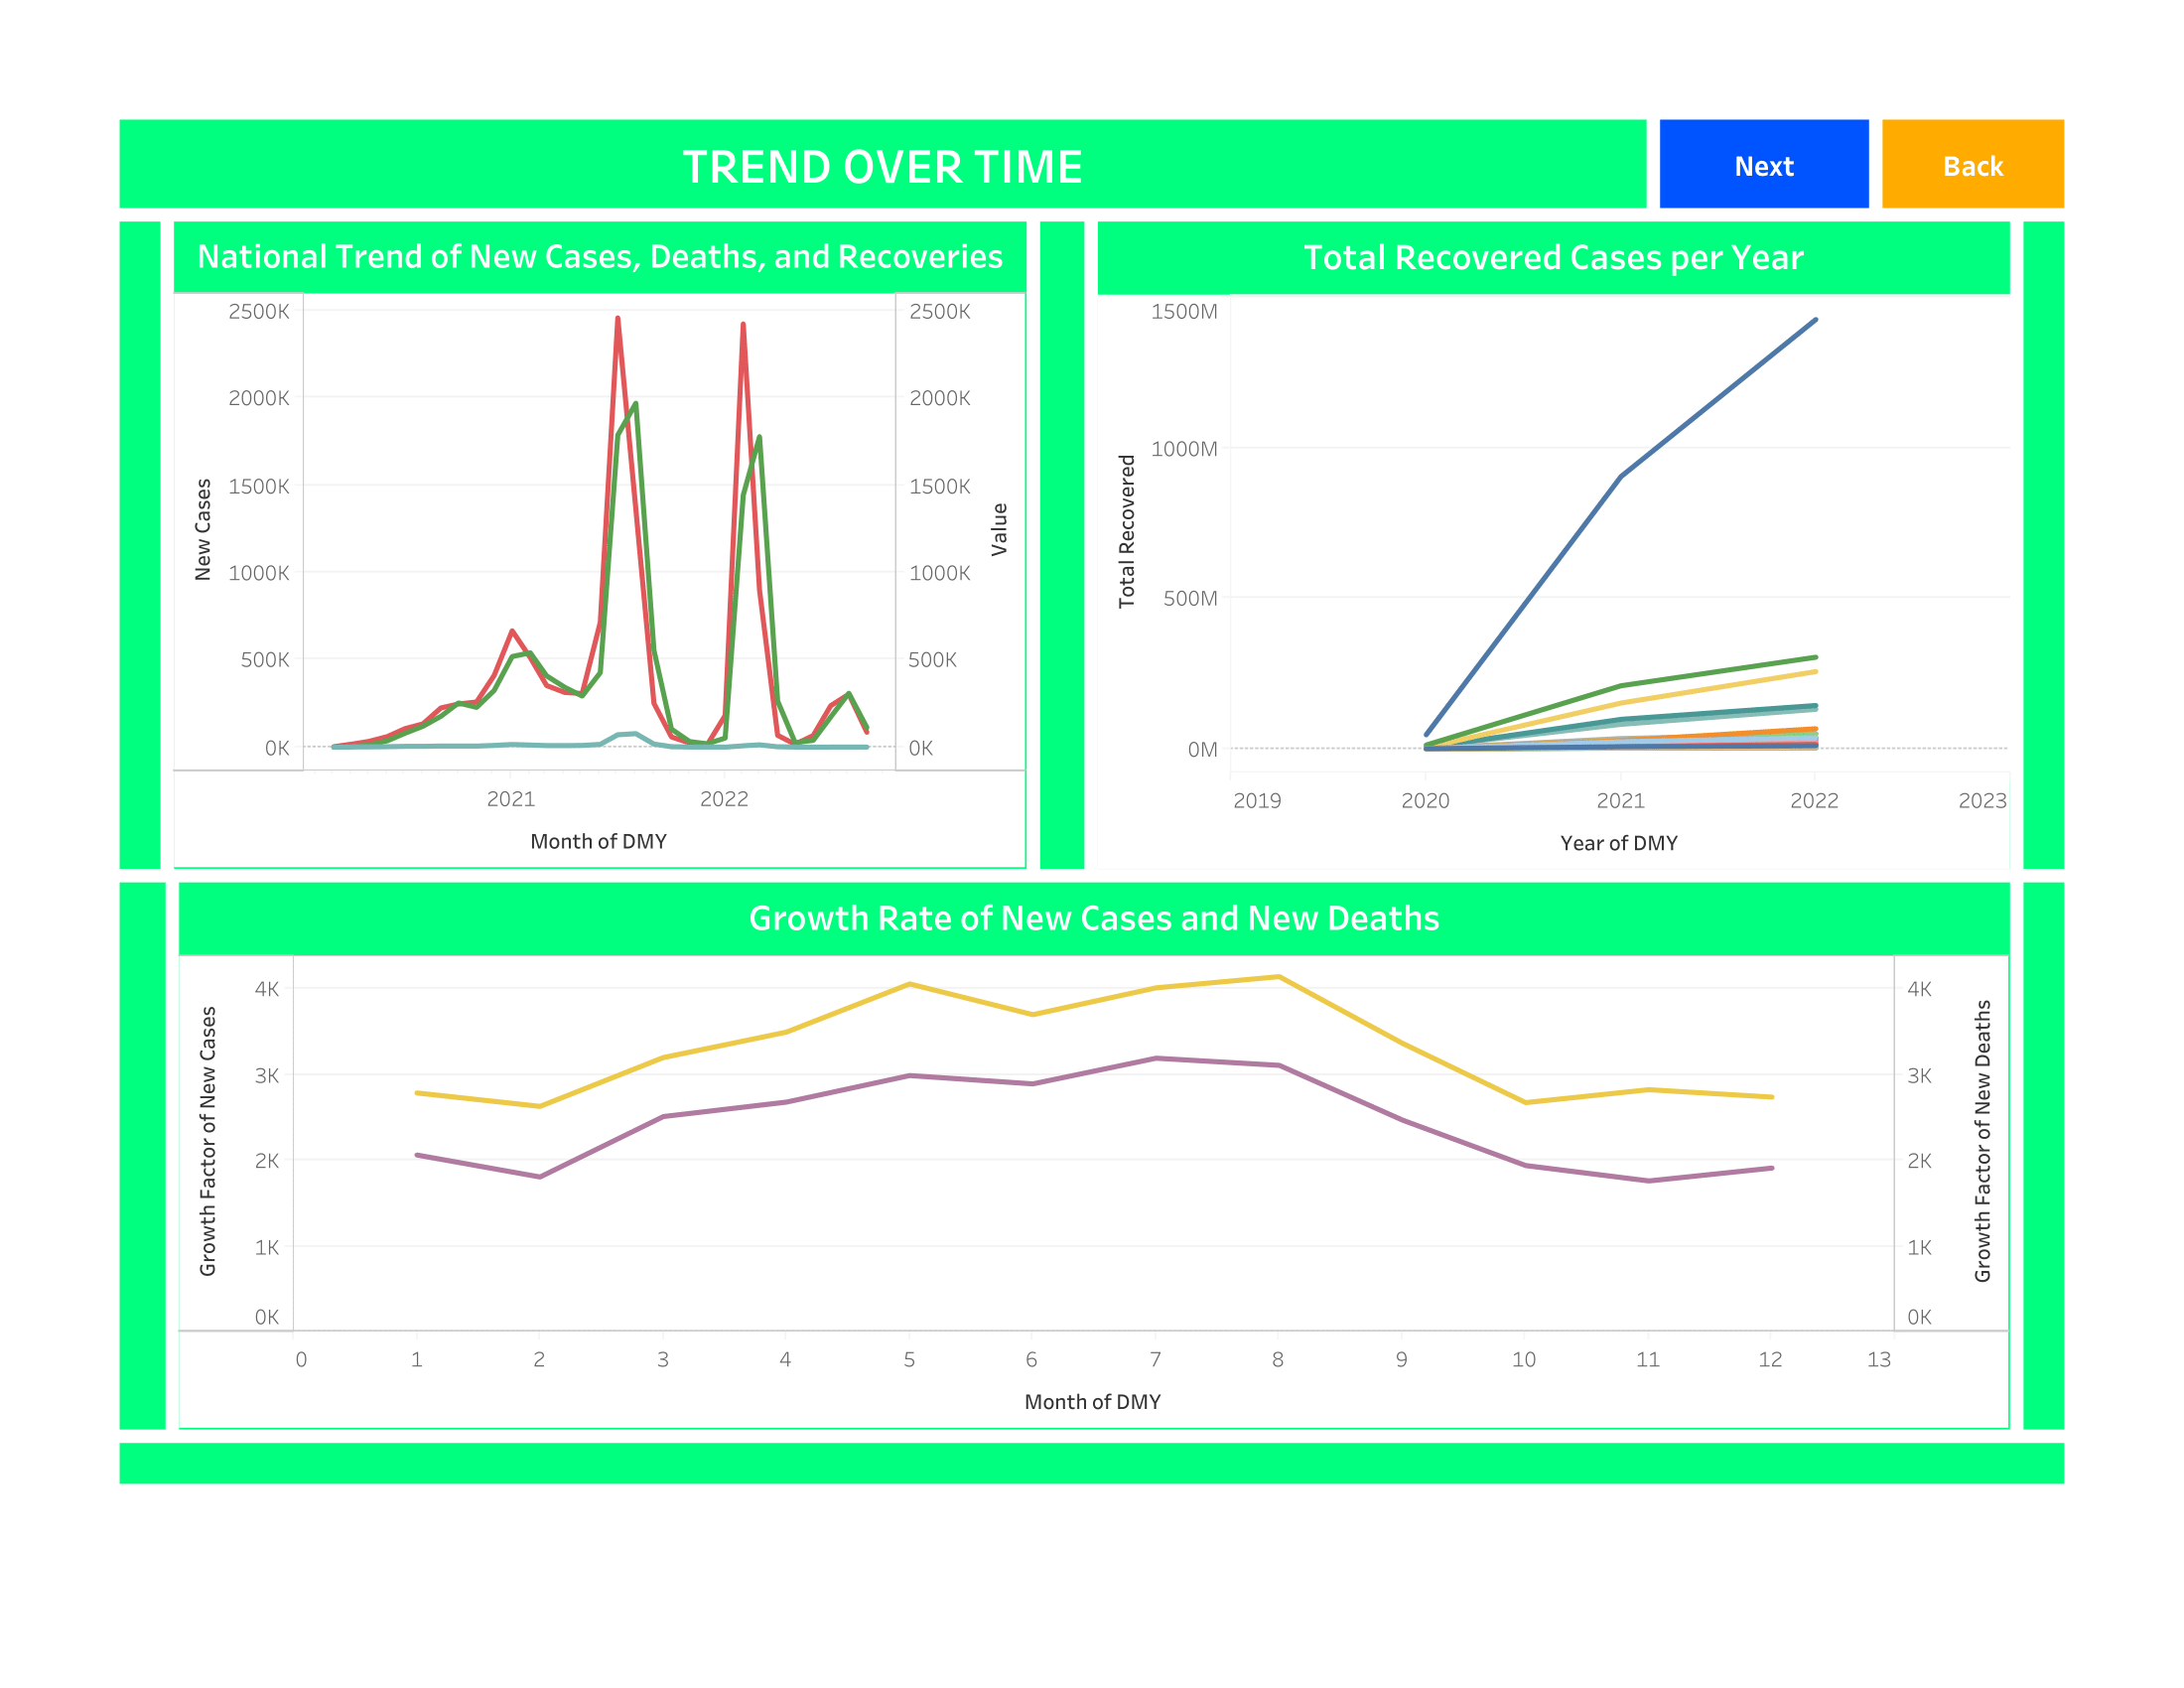

What the dashboard file says about the page in this screenshot:
{"tool":"tableau","page":{"name":"Dashboard 2","canvas":[1169,827],"ordinal":1},"visuals":[{"type":"text","box":[8,8,907,60]},{"type":"dashboard-object","box":[915,8,131,60]},{"type":"dashboard-object","box":[1046,8,115,60]},{"type":"blank","box":[8,68,32,389]},{"type":"worksheet","title":"Line Chart Case","mark":"Automatic","rows":["New Cases"],"cols":["DMY"],"box":[40,68,510,389]},{"type":"blank","box":[550,68,34,389]},{"type":"worksheet","title":"Total Recovery","mark":"Automatic","rows":["Total Recovered"],"cols":["DMY"],"box":[584,68,545,389]},{"type":"blank","box":[1129,68,32,389]},{"type":"blank","box":[8,457,35,330]},{"type":"worksheet","title":"Line Chart Growth Factor","mark":"Automatic","rows":["Growth Factor of New Cases","Growth Factor of New Deaths"],"cols":["DMY"],"box":[43,457,1086,330]},{"type":"blank","box":[1129,457,32,330]},{"type":"blank","box":[8,787,1153,32]}]}

Visuals, with their boxes on the page's 1169x827 design canvas (x1, y1, x2, y2). These are canvas units, not pixel positions in the 2184x1688 screenshot, which may show the page scaled, cropped or inside an application window:
text: (x1=8, y1=8, x2=915, y2=68)
dashboard-object: (x1=915, y1=8, x2=1046, y2=68)
dashboard-object: (x1=1046, y1=8, x2=1161, y2=68)
blank: (x1=8, y1=68, x2=40, y2=457)
"Line Chart Case" worksheet: (x1=40, y1=68, x2=550, y2=457)
blank: (x1=550, y1=68, x2=584, y2=457)
"Total Recovery" worksheet: (x1=584, y1=68, x2=1129, y2=457)
blank: (x1=1129, y1=68, x2=1161, y2=457)
blank: (x1=8, y1=457, x2=43, y2=787)
"Line Chart Growth Factor" worksheet: (x1=43, y1=457, x2=1129, y2=787)
blank: (x1=1129, y1=457, x2=1161, y2=787)
blank: (x1=8, y1=787, x2=1161, y2=819)
